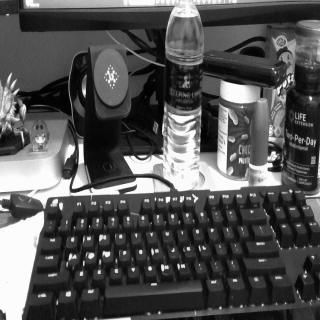plastic_bottles: (162, 0, 205, 191)
